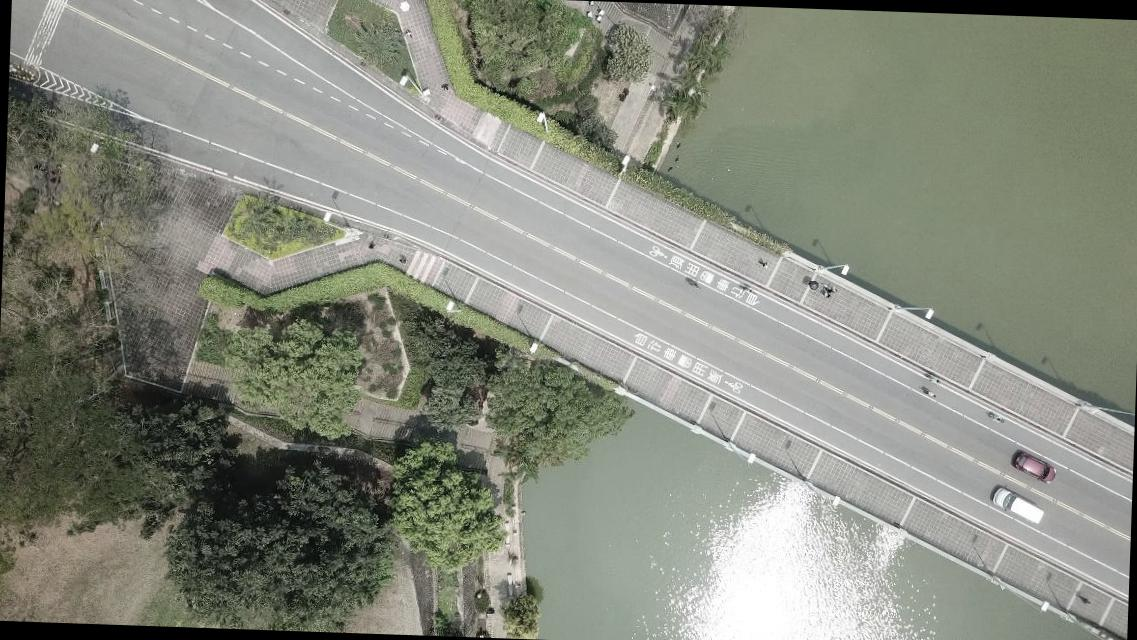vehicle: (988, 484, 1044, 524), (1010, 450, 1056, 484)
